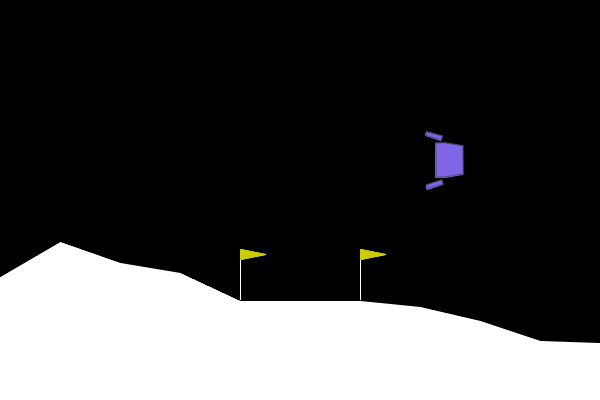lander: (424, 130, 465, 190)
